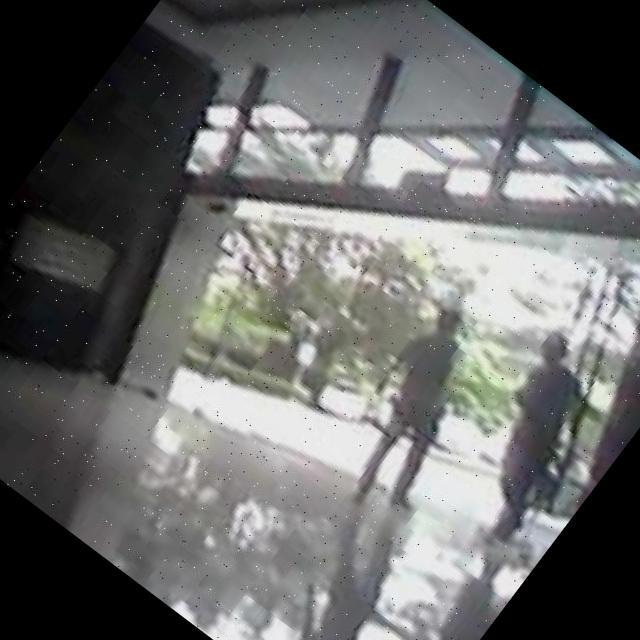person: (425, 325, 640, 567), (317, 296, 527, 526)
